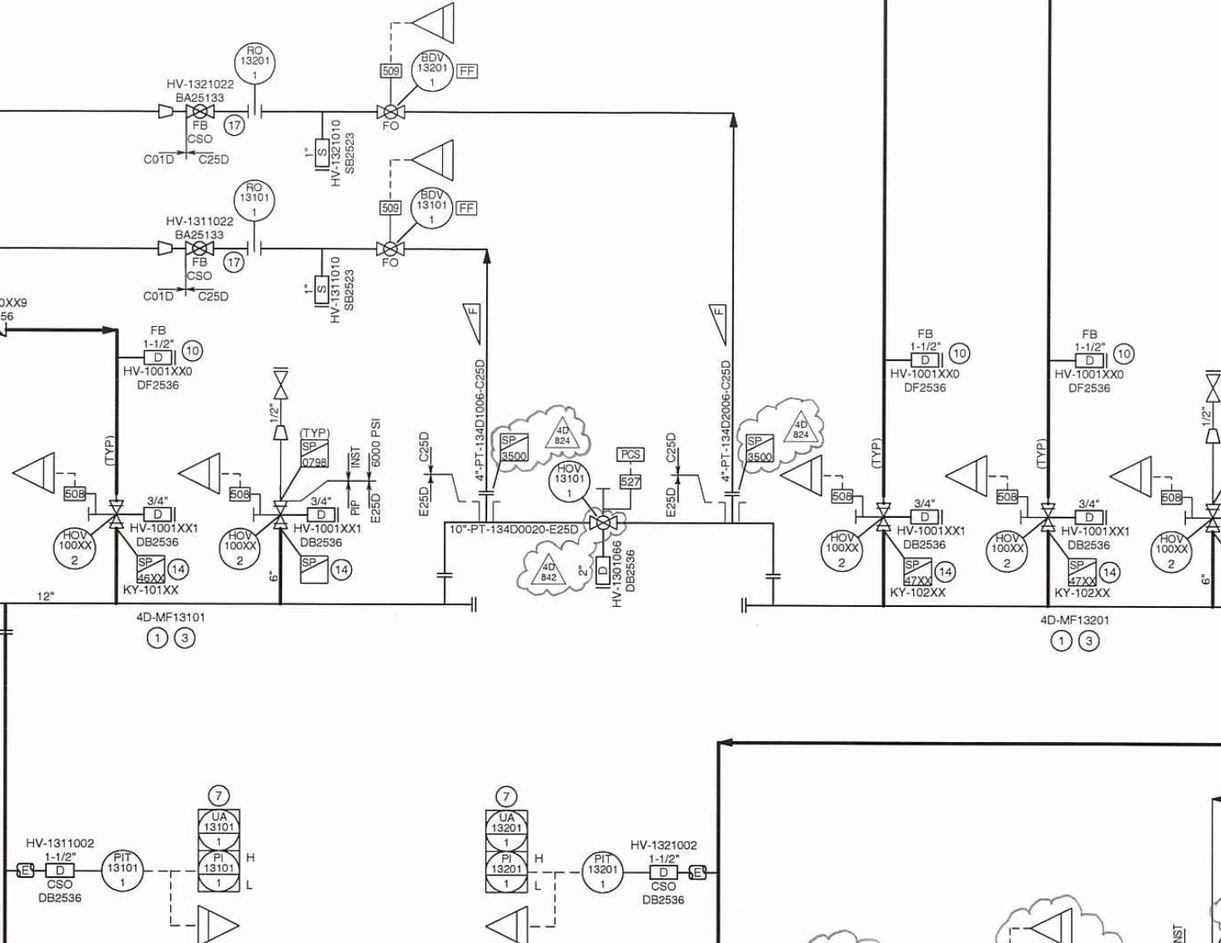Instrument: (97, 843, 149, 895), (580, 841, 628, 897), (232, 35, 281, 88), (1145, 529, 1196, 579), (47, 524, 98, 573), (230, 172, 279, 223), (980, 528, 1032, 576), (407, 43, 456, 93), (407, 183, 455, 234), (214, 522, 261, 573), (819, 526, 866, 574), (544, 458, 594, 503)
Instrument-square: (480, 847, 530, 896), (479, 805, 532, 850), (193, 805, 242, 852), (194, 849, 244, 895)
